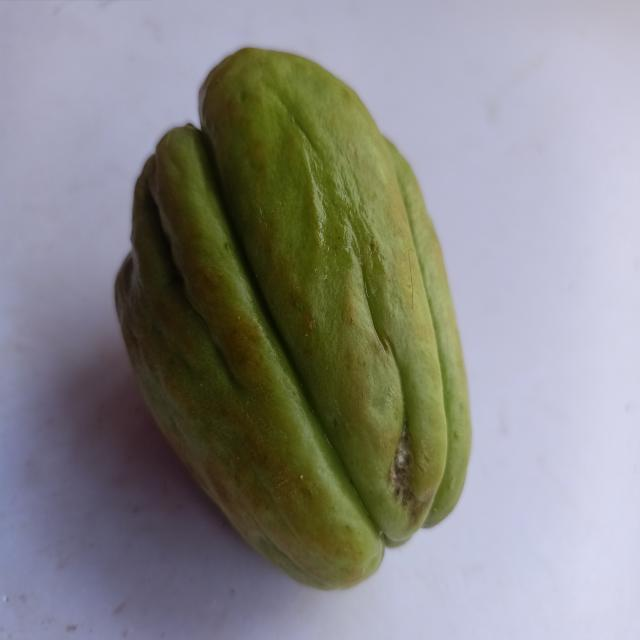Chayote: (99, 29, 486, 600)
